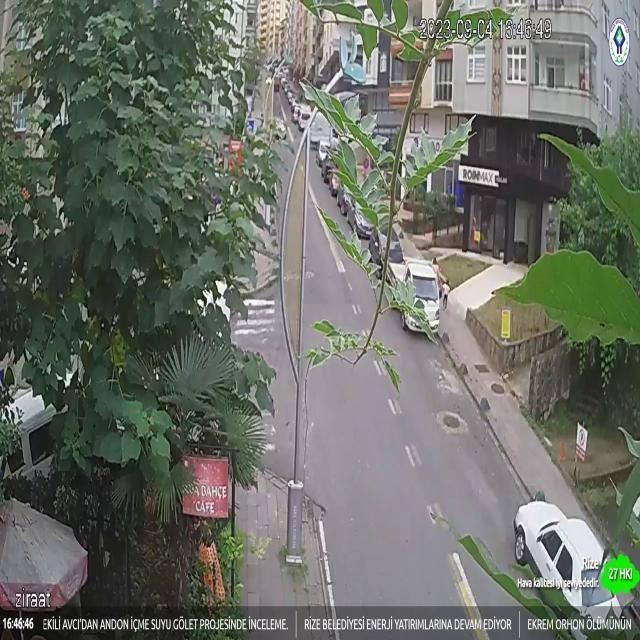Car: (511, 471, 614, 622), (398, 258, 460, 326)
